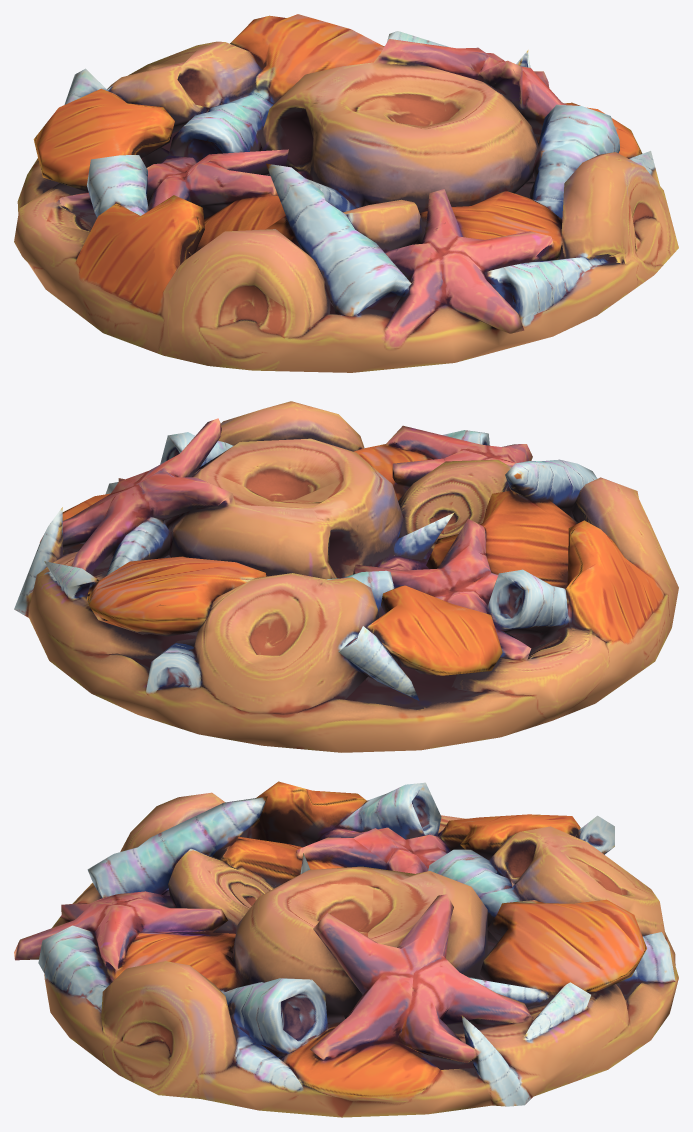
The model's file is Shells.fbx.
3 renders of one model, top to bottom at view 1: azimuth 30°, elevation 25°; view 2: azimuth 150°, elevation 25°; view 3: azimuth 270°, elevation 25°, orthographic. The views are drawn at different scales.
Parts seen in each view (by area): view 1: Shells_LOD0; view 2: Shells_LOD0; view 3: Shells_LOD0.
Boxes of the visible parts, x1,y1,x2,y2 form: Shells_LOD0: [14, 14, 678, 372]; Shells_LOD0: [14, 401, 678, 752]; Shells_LOD0: [14, 781, 678, 1117].
Size of what is drawn, in the model's own units: 0.5118 by 0.1335 by 0.5269.
Materials: 1 (1 with a texture image).
